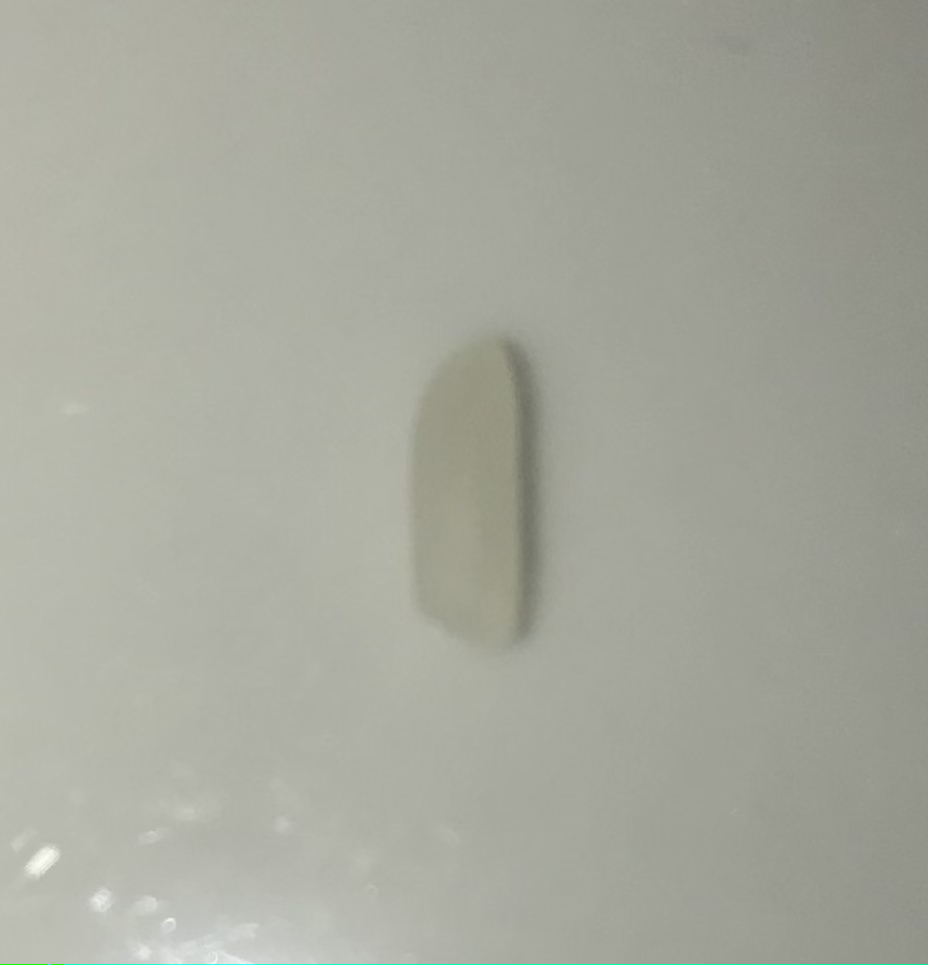Gao Thom Go Cong: (403, 336, 547, 646)
